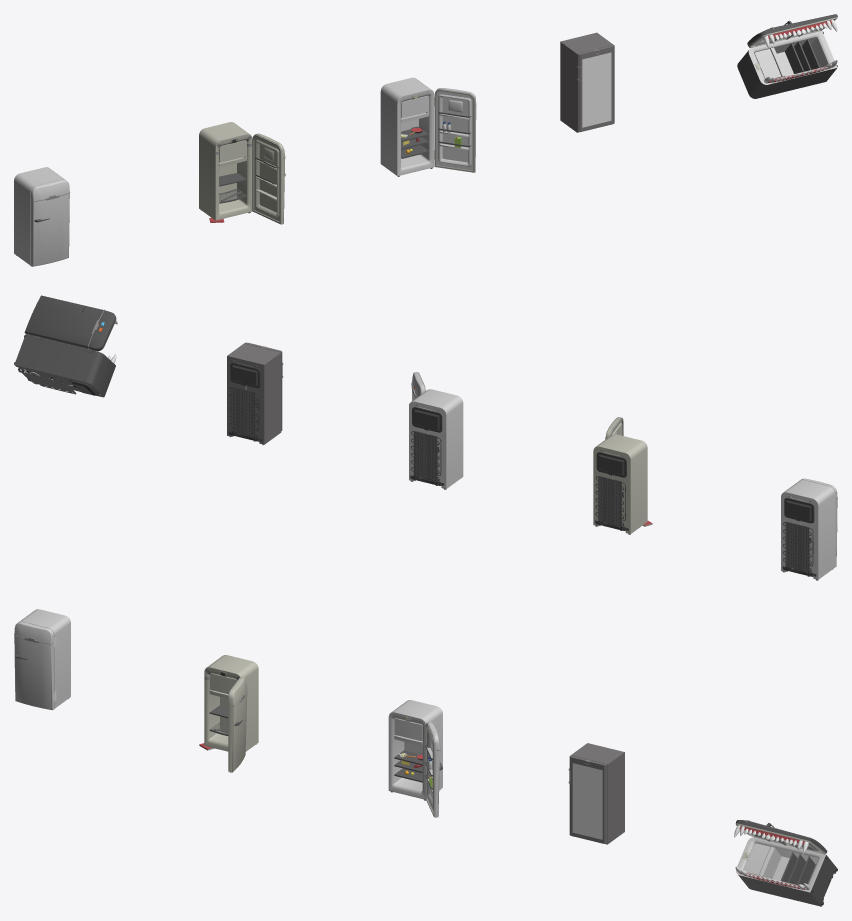
Rendered from Fridge.fbx.
3 renders of one model, top to bottom at view 1: azimuth 30°, elevation 25°; view 2: azimuth 150°, elevation 25°; view 3: azimuth 330°, elevation 25°, orthographic.
Visible parts, largest first — view 1: Cube.002, Cube.037, Cube.019, Cube.125, Cube.038, Cube.142, Cube.042, Cube.018, Cube.003, Cube.008, Cube.045, Cube.066 (+4 smaller); view 2: Cube.125, Cube.126, Cube.042, Cube.018, Cube.037, Cube.002, Plane.003, Plane.001, Plane.006, Plane.002, Cube.001, Cube.004 (+5 smaller); view 3: Cube.019, Cube.002, Cube.037, Cube.125, Cube.042, Cube.142, Cube.018, Cube.003, Cube.008.
Part boxes in pixels (bbox=[...]): Cube.002: bbox=[199, 122, 252, 220]; Cube.037: bbox=[380, 77, 434, 176]; Cube.019: bbox=[31, 179, 69, 266]; Cube.125: bbox=[737, 30, 837, 98]; Cube.038: bbox=[435, 88, 476, 172]; Cube.142: bbox=[582, 52, 611, 127]; Cube.042: bbox=[560, 32, 613, 132]; Cube.018: bbox=[14, 167, 64, 265]; Cube.003: bbox=[254, 133, 285, 224]; Cube.008: bbox=[577, 45, 614, 132]; Cube.045: bbox=[438, 94, 471, 166]; Cube.066: bbox=[255, 139, 279, 217]; Cube.125: bbox=[14, 334, 115, 397]; Cube.126: bbox=[24, 295, 116, 350]; Cube.042: bbox=[227, 343, 281, 444]; Cube.018: bbox=[781, 480, 835, 579]; Cube.037: bbox=[409, 389, 463, 488]; Cube.002: bbox=[593, 434, 647, 534]; Plane.003: bbox=[785, 521, 809, 571]; Plane.001: bbox=[231, 386, 255, 436]; Plane.006: bbox=[413, 431, 437, 481]; Plane.002: bbox=[598, 476, 621, 526]; Cube.001: bbox=[230, 362, 260, 388]; Cube.004: bbox=[596, 452, 626, 477]; Cube.019: bbox=[14, 621, 53, 710]; Cube.002: bbox=[204, 655, 258, 751]; Cube.037: bbox=[388, 700, 442, 799]; Cube.125: bbox=[736, 837, 837, 906]; Cube.042: bbox=[571, 743, 624, 844]; Cube.142: bbox=[573, 763, 602, 839]; Cube.018: bbox=[19, 609, 70, 708]; Cube.003: bbox=[229, 677, 247, 772]; Cube.008: bbox=[569, 755, 607, 843].
Bounding box in the file's own units: 4322 × 462 × 373.
